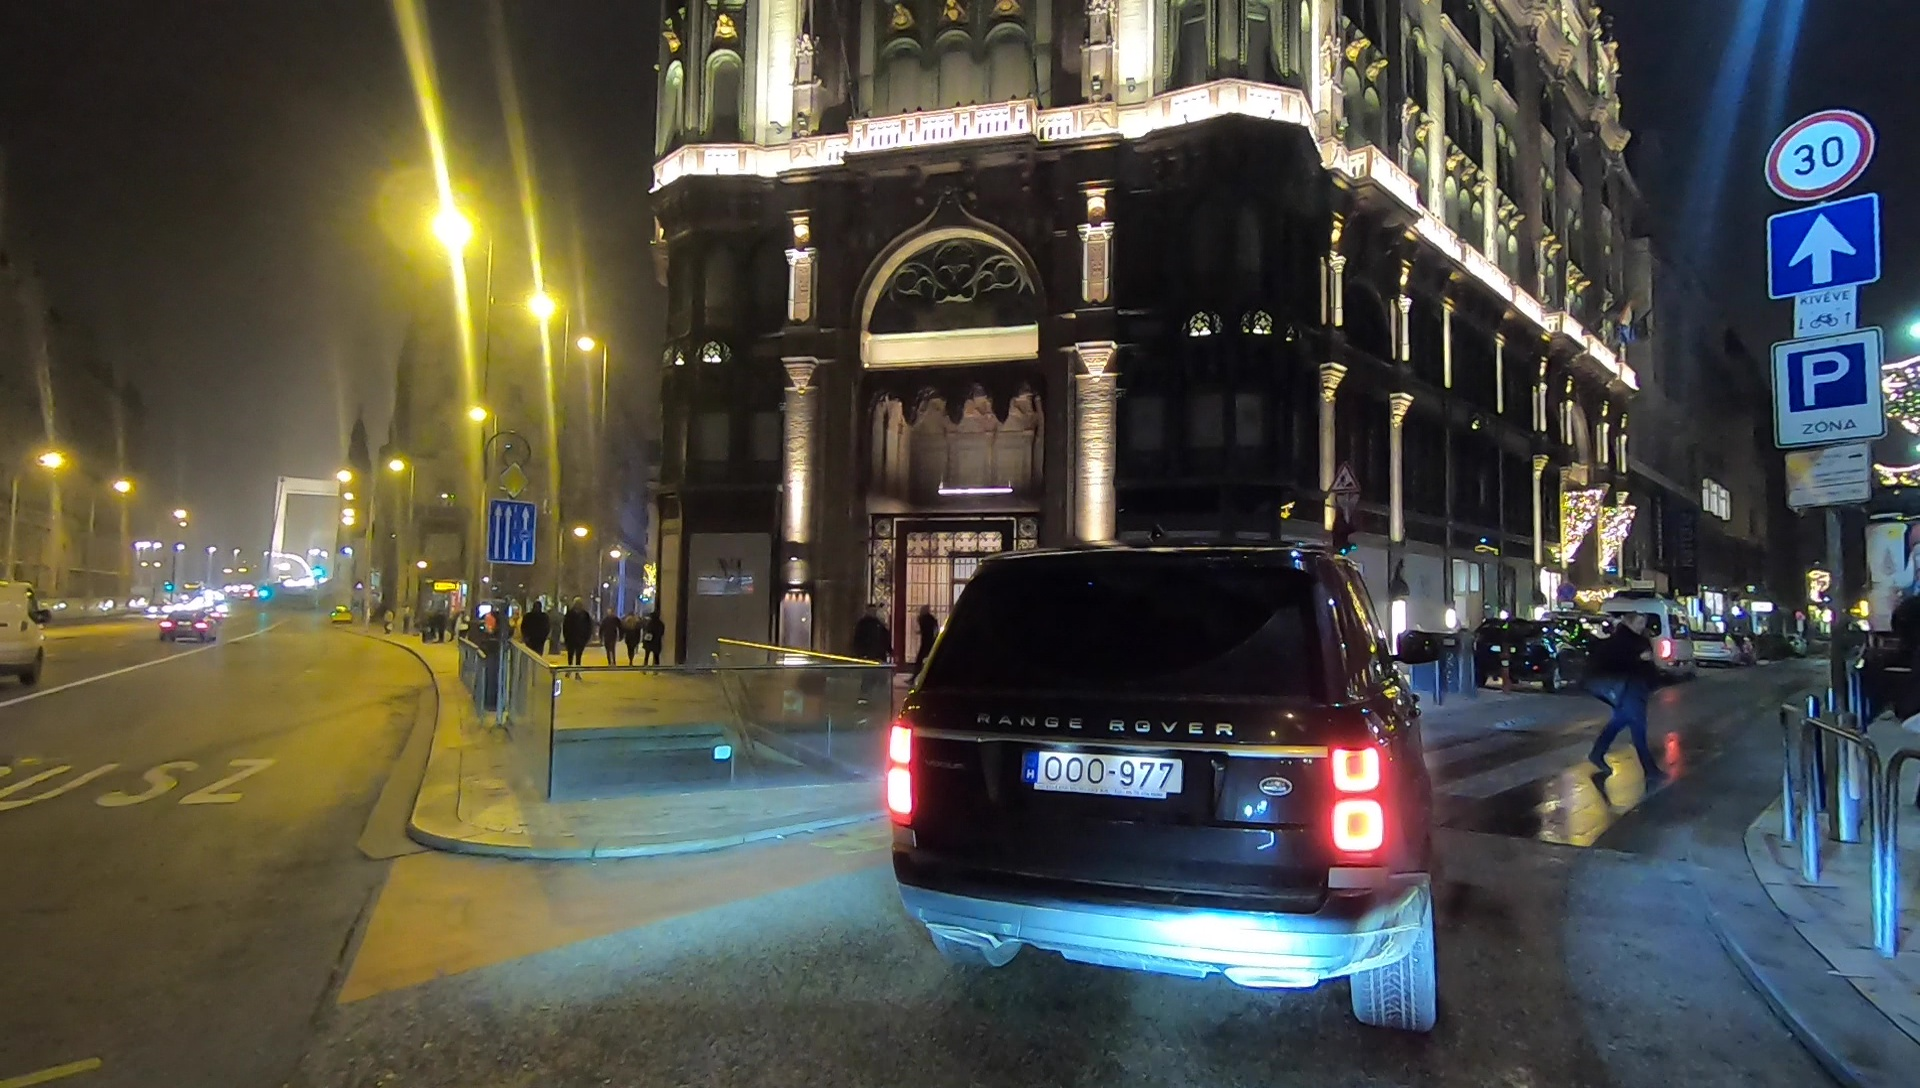person: (1591, 611, 1672, 777), (853, 603, 894, 708), (562, 597, 591, 681), (915, 606, 939, 686), (524, 601, 547, 679), (599, 608, 621, 672), (642, 610, 662, 675), (623, 608, 637, 668)
